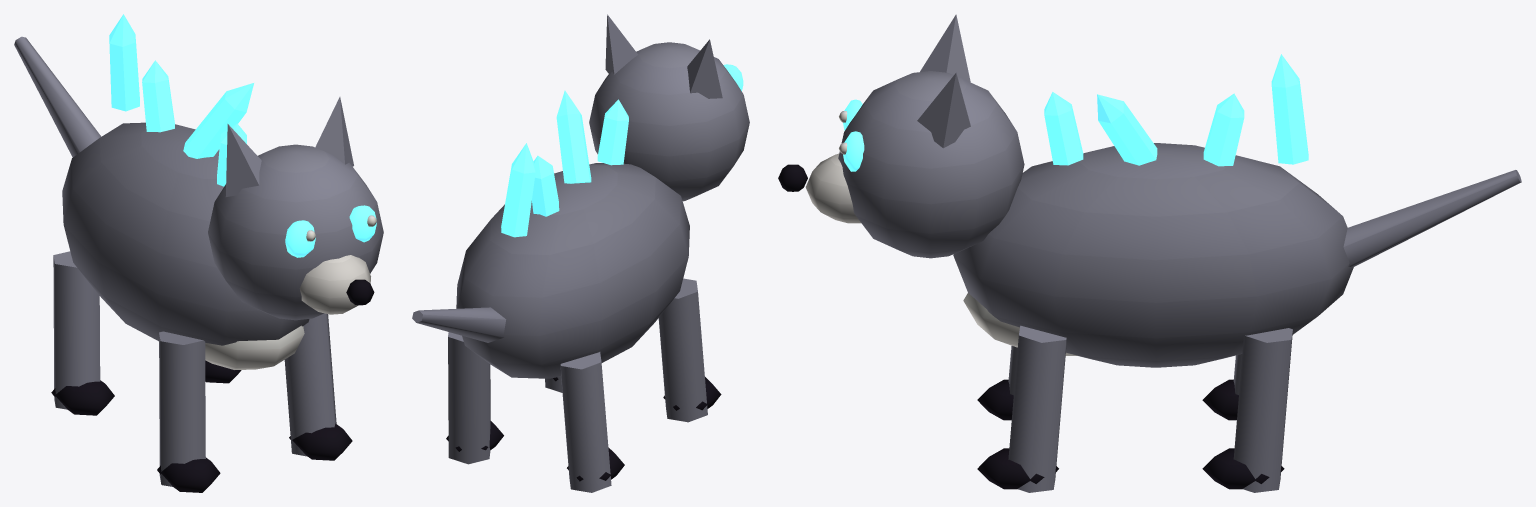
File: monster_crystal_cat.glb
3 renders of one model, left to right at view 1: azimuth 30°, elevation 25°; view 2: azimuth 150°, elevation 25°; view 3: azimuth 270°, elevation 25°, orthographic. The views are drawn at different scales.
Parts seen in each view (by area): view 1: body_t0_palette, legl_t0_palette, body_t0_crystal, legr_t0_palette, tail_t0_palette; view 2: body_t0_palette, legl_t0_palette, body_t0_crystal, legr_t0_palette, tail_t0_palette; view 3: body_t0_palette, legr_t0_palette, body_t0_crystal, tail_t0_palette, legl_t0_palette.
Boxes of the visible parts, bbox=[...] form: body_t0_palette: bbox=[62, 97, 383, 369]; legl_t0_palette: bbox=[51, 251, 220, 492]; body_t0_crystal: bbox=[109, 14, 376, 257]; legr_t0_palette: bbox=[205, 313, 352, 460]; tail_t0_palette: bbox=[14, 36, 101, 157]; body_t0_palette: bbox=[456, 14, 749, 378]; legl_t0_palette: bbox=[560, 278, 721, 492]; body_t0_crystal: bbox=[501, 64, 743, 237]; legr_t0_palette: bbox=[446, 332, 562, 464]; tail_t0_palette: bbox=[412, 307, 506, 342]; body_t0_palette: bbox=[778, 14, 1353, 367]; legr_t0_palette: bbox=[977, 325, 1292, 492]; body_t0_crystal: bbox=[843, 54, 1308, 171]; tail_t0_palette: bbox=[1343, 170, 1521, 266]; legl_t0_palette: bbox=[977, 346, 1242, 420].
Size of the model in its own units: 0.18 by 0.3603 by 0.5945.
